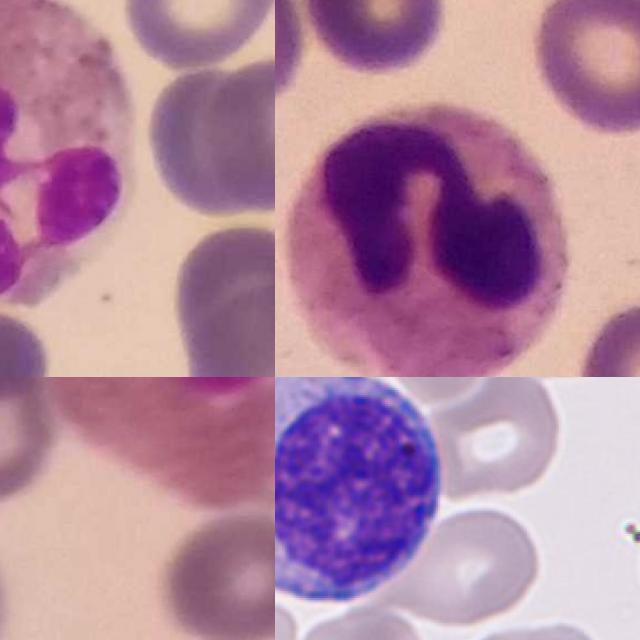Eosinophil: (0, 0, 141, 314), (26, 377, 275, 511)
Lymphocyte: (275, 377, 454, 617)
Neutrophil: (282, 101, 572, 377)
RBC: (395, 504, 543, 630), (427, 377, 567, 505), (297, 603, 427, 640), (456, 615, 602, 640), (376, 377, 488, 406)
